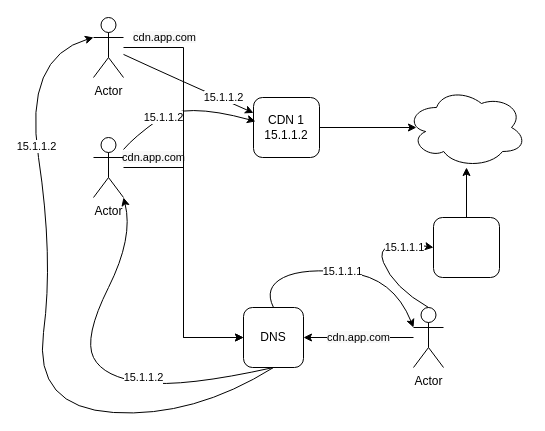
Image size: 545x431. Some labels were removed from this diagram. The shapes that lost their labels are listed below. From the top down, each one's centre as x and y in pixels, then its label:
the point at 466,127: Source server
the point at 466,247: CDN 2 15.1.1.1
